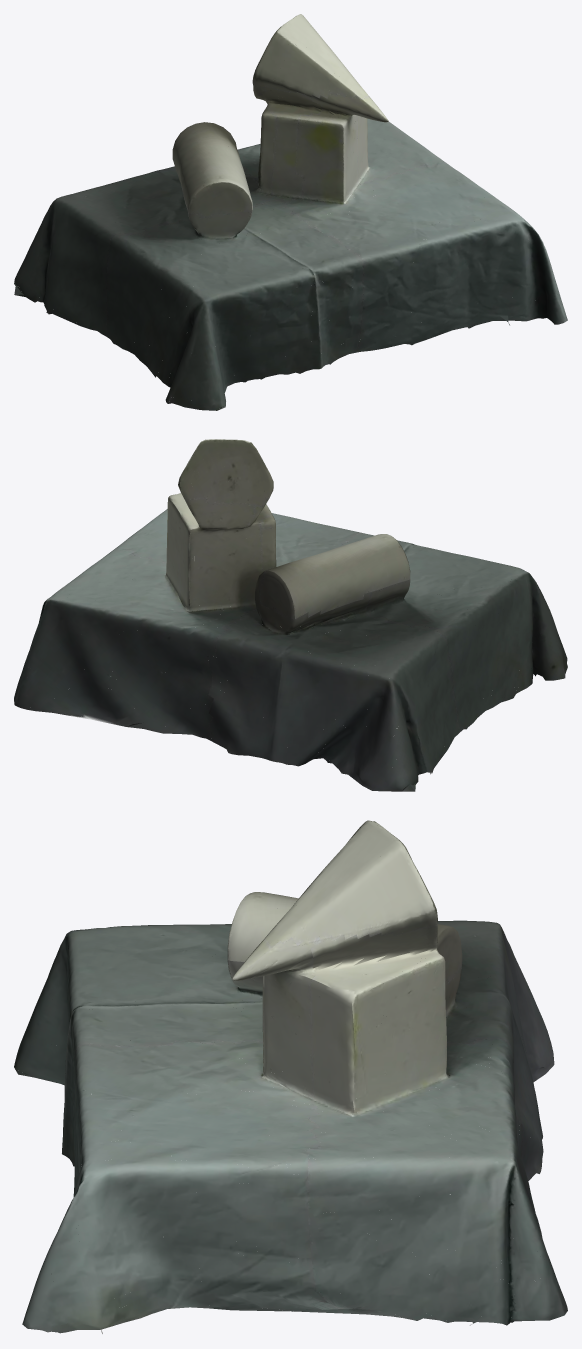
Rendered from 静物_几何体_石膏几何体组合03_opt.glb.
The picture shows the model from 3 angles, top to bottom: view 1: azimuth 30°, elevation 25°; view 2: azimuth 150°, elevation 25°; view 3: azimuth 270°, elevation 25°; orthographic projection. The views are drawn at different scales.
Visible parts, largest first — view 1: defaultMat, defaultMat_1; view 2: defaultMat, defaultMat_1; view 3: defaultMat, defaultMat_1.
Boxes of the visible parts, x1,y1,x2,y2 form: defaultMat: (14,14,567,410); defaultMat_1: (14,18,559,410); defaultMat: (14,439,567,791); defaultMat_1: (24,439,566,791); defaultMat: (14,820,567,1333); defaultMat_1: (14,824,546,1333).
Size of the model in its own units: 0.4851 by 0.3 by 0.3901.
1 material, 1 textured.
